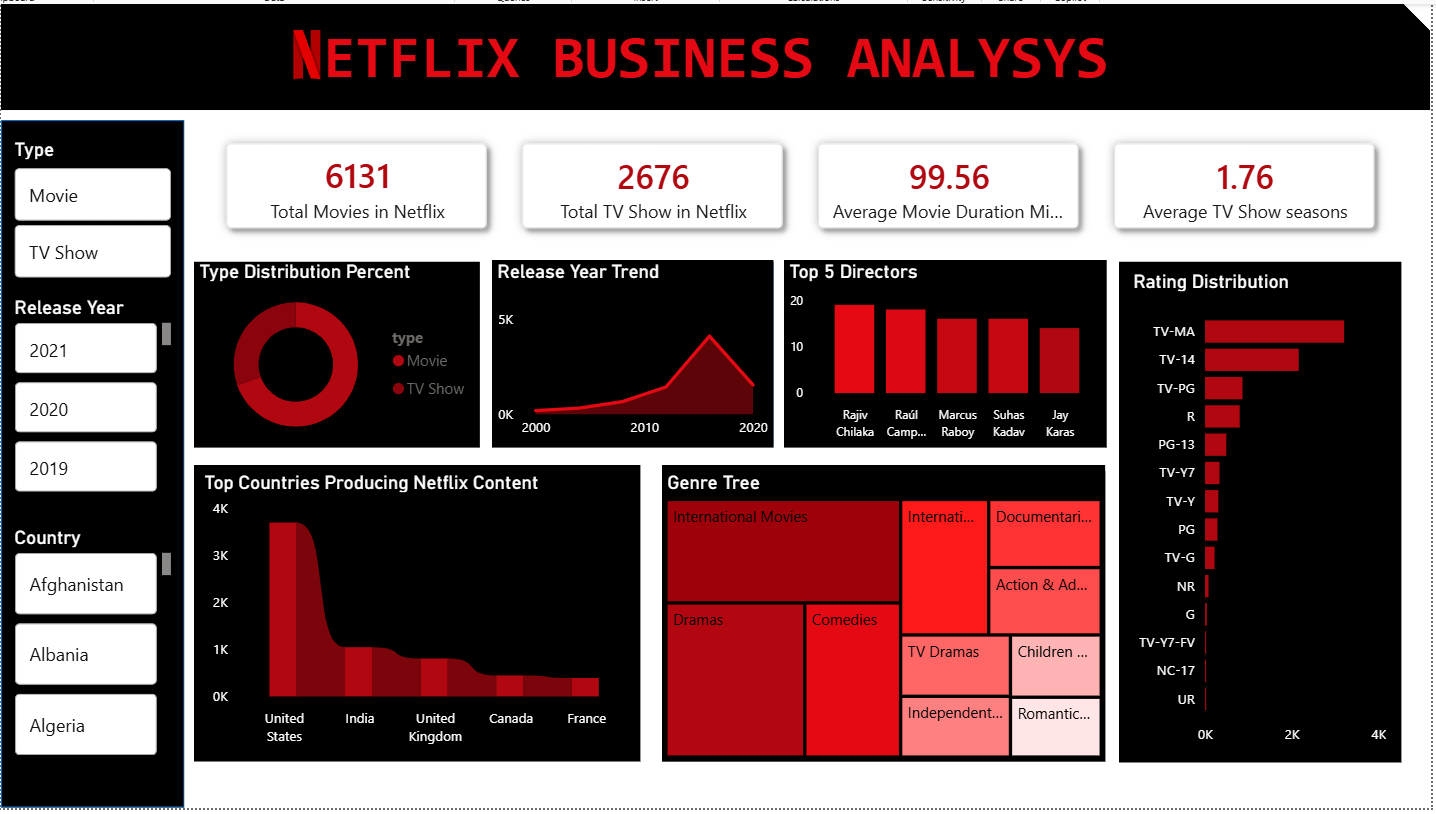

The page's visual inventory and layout, read from the dashboard file:
{"tool":"powerbi","page":{"name":"Page 1","canvas":[1280,720],"ordinal":0},"visuals":[{"type":"shape","box":[0,0,1280,95.5],"z":0},{"type":"shape","box":[0,104.1,164.4,615.7],"z":1000},{"type":"textbox","box":[0,11.7,1280,72.9],"z":2000},{"type":"shape","box":[173.1,229.5,250,167.3],"z":3000},{"type":"shape","box":[439.6,229.5,251.9,167.3],"z":4000},{"type":"shape","box":[1000.9,229.5,252.9,450.3],"z":5000},{"type":"shape","box":[173.1,412.4,399.8,265.5],"z":6000},{"type":"donutChart","title":"Type Distribution Percent","fields":{"Category":["netflix_data_analysis.type"],"Y":["netflix_data_analysis.Type Distribution"]},"box":[173.1,229.5,250,167.3],"z":7000},{"type":"advancedSlicerVisual","title":"Type","fields":{"Values":["netflix_data_analysis.type"]},"box":[6.8,119.6,150.8,131.3],"z":8000},{"type":"advancedSlicerVisual","title":"Release Year","fields":{"Values":["netflix_data_analysis.release_year"]},"box":[6.8,261.6,150.8,174.1],"z":9000},{"type":"clusteredBarChart","title":"Rating Distribution","fields":{"Category":["netflix_data_analysis.rating"],"Y":["netflix_data_analysis.Ratind Distribution"]},"box":[1009.6,238.3,236.4,433.8],"z":10000},{"type":"cardVisual","fields":{"Data":["netflix_data_analysis.Total Movies in Netflix","netflix_data_analysis.Total TV Show in Netflix","netflix_data_analysis.Average Movie Duration Minutes","netflix_data_analysis.Average TV Show seasons"]},"box":[172.7,95.5,1088.2,134.5],"z":11000},{"type":"lineStackedColumnComboChart","title":"Top 5 Directors ","fields":{"Category":["netflix_data_analysis.director"],"Y":["netflix_data_analysis.Count"]},"box":[701.3,229.5,287.9,167.3],"z":12000},{"type":"shape","box":[592.3,412.4,396.8,265.5],"z":13000},{"type":"advancedSlicerVisual","title":"Country","fields":{"Values":["Title & country.country"]},"box":[6.8,467.8,150.8,212],"z":14000},{"type":"clusteredColumnChart","title":"Release Year Trend","fields":{"Y":["netflix_data_analysis.Count"],"Category":["netflix_data_analysis.release_year (bins)"]},"box":[439.6,229.5,251.9,167.3],"z":15000},{"type":"ribbonChart","title":"Top 5 Country Distribution","fields":{"Category":["Title & country.country"],"Y":["netflix_data_analysis.Count"]},"box":[177,418.2,392.9,252.9],"z":16000},{"type":"treemap","title":"Genre Tree","fields":{"Group":["Titlr & Listed_in.listed_in"],"Values":["netflix_data_analysis.Count"]},"box":[592.3,418.2,396.8,259.7],"z":17000},{"type":"image","box":[236.4,18.2,75.5,55.5],"z":17001}]}

Visuals, with their boxes in screenshot pixels (x1, y1, x2, y2), scaled from the page's 1280x720 canvas onto the 1436x814 screenshot:
shape: (x1=0, y1=0, x2=1435, y2=108)
shape: (x1=0, y1=118, x2=184, y2=813)
textbox: (x1=0, y1=13, x2=1435, y2=96)
shape: (x1=194, y1=259, x2=475, y2=449)
shape: (x1=493, y1=259, x2=776, y2=449)
shape: (x1=1123, y1=259, x2=1407, y2=769)
shape: (x1=194, y1=466, x2=643, y2=766)
"Type Distribution Percent" donutChart: (x1=194, y1=259, x2=475, y2=449)
"Type" advancedSlicerVisual: (x1=8, y1=135, x2=177, y2=284)
"Release Year" advancedSlicerVisual: (x1=8, y1=296, x2=177, y2=493)
"Rating Distribution" clusteredBarChart: (x1=1133, y1=269, x2=1398, y2=760)
cardVisual - netflix_data_analysis.Total Movies in Netflix x netflix_data_analysis.Total TV Show in Netflix: (x1=194, y1=108, x2=1415, y2=260)
"Top 5 Directors " lineStackedColumnComboChart: (x1=787, y1=259, x2=1110, y2=449)
shape: (x1=664, y1=466, x2=1110, y2=766)
"Country" advancedSlicerVisual: (x1=8, y1=529, x2=177, y2=769)
"Release Year Trend" clusteredColumnChart: (x1=493, y1=259, x2=776, y2=449)
"Top 5 Country Distribution" ribbonChart: (x1=199, y1=473, x2=639, y2=759)
"Genre Tree" treemap: (x1=664, y1=473, x2=1110, y2=766)
image: (x1=265, y1=21, x2=350, y2=83)
